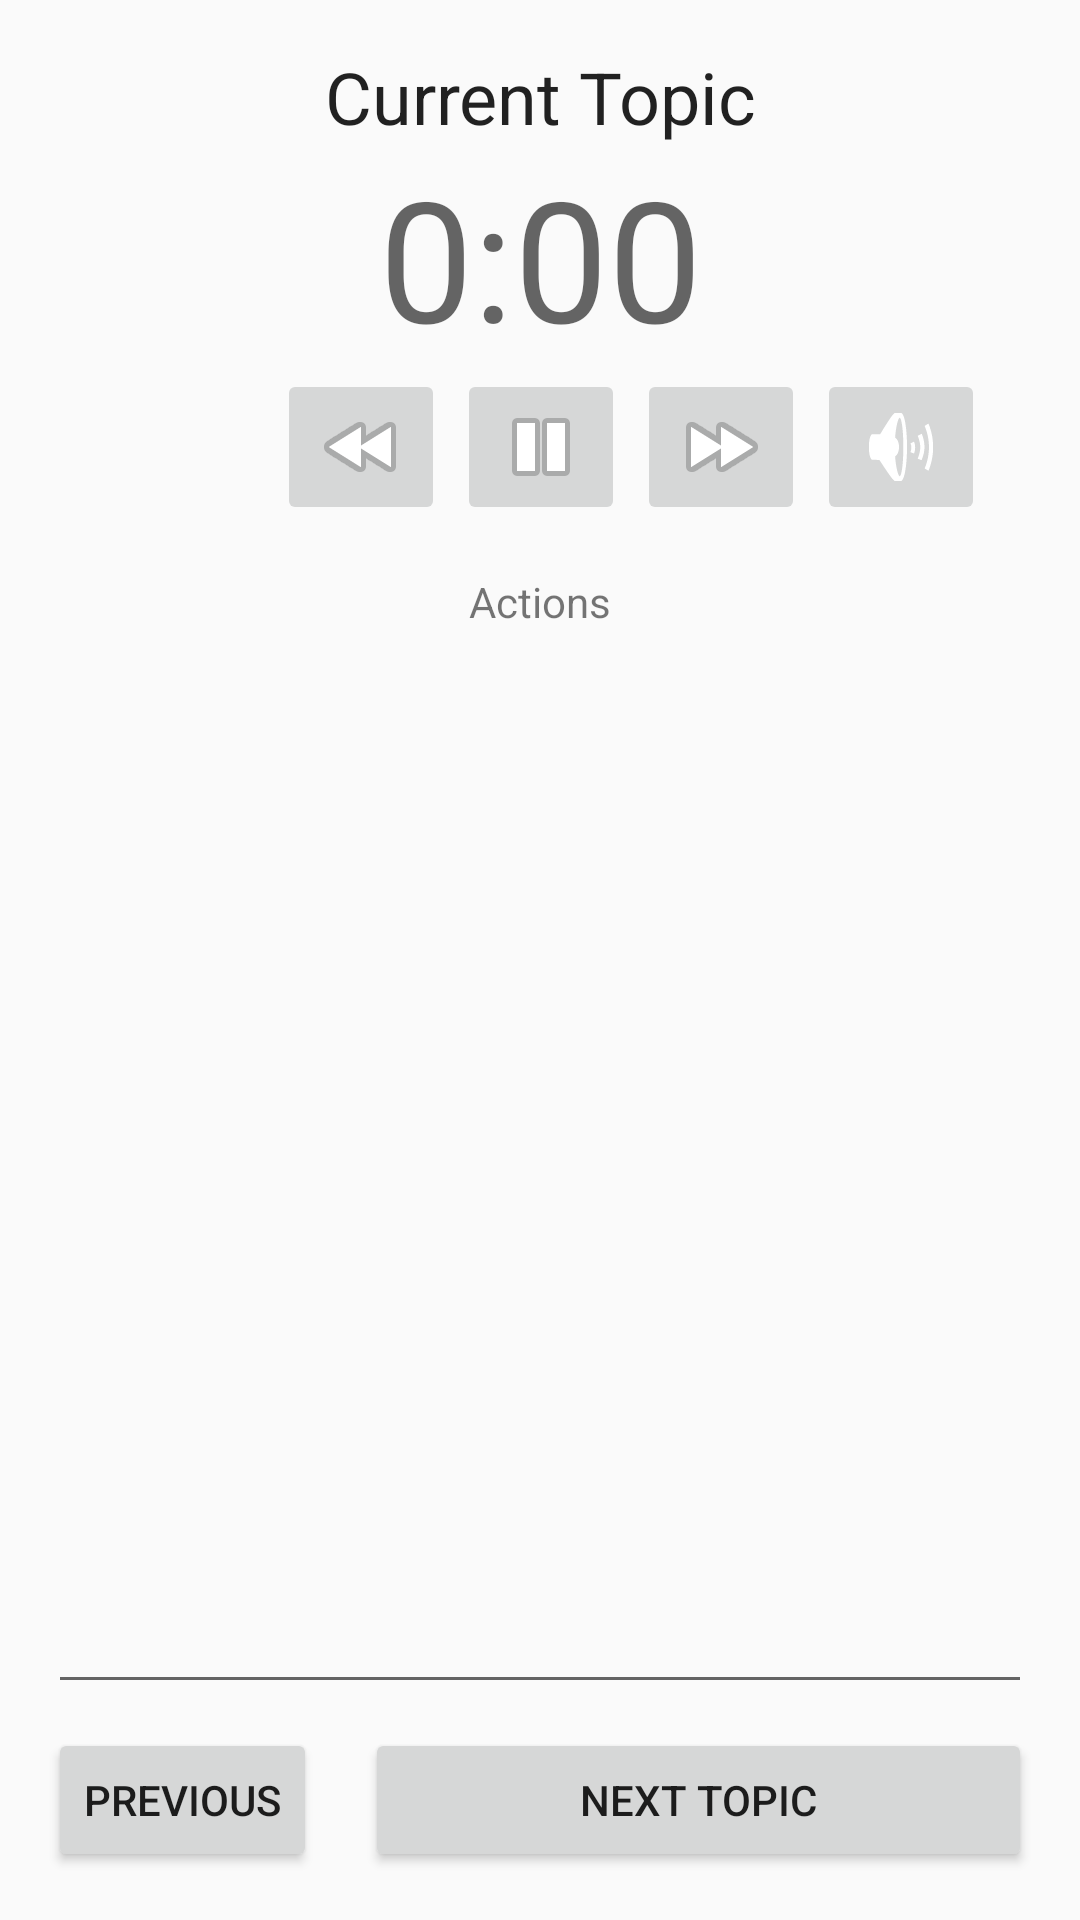

Icon click points for this 1080px x 1920px phone screenshot, format point (x, y):
Fast Forward: point (721, 447)
Play/Pause: point (541, 447)
Rewind: point (361, 447)
